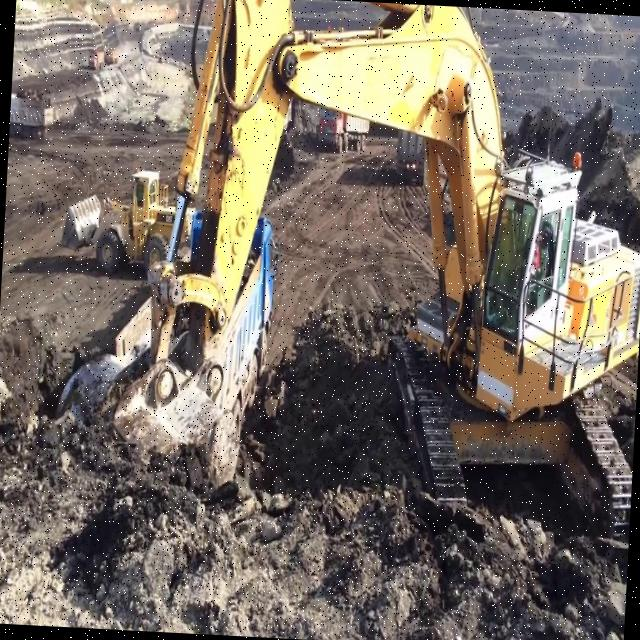Dump Truck: (218, 213, 282, 441), (316, 112, 369, 154), (10, 92, 54, 140), (394, 132, 426, 188)
Excavator: (117, 0, 640, 543)
Loader: (55, 164, 195, 274)
